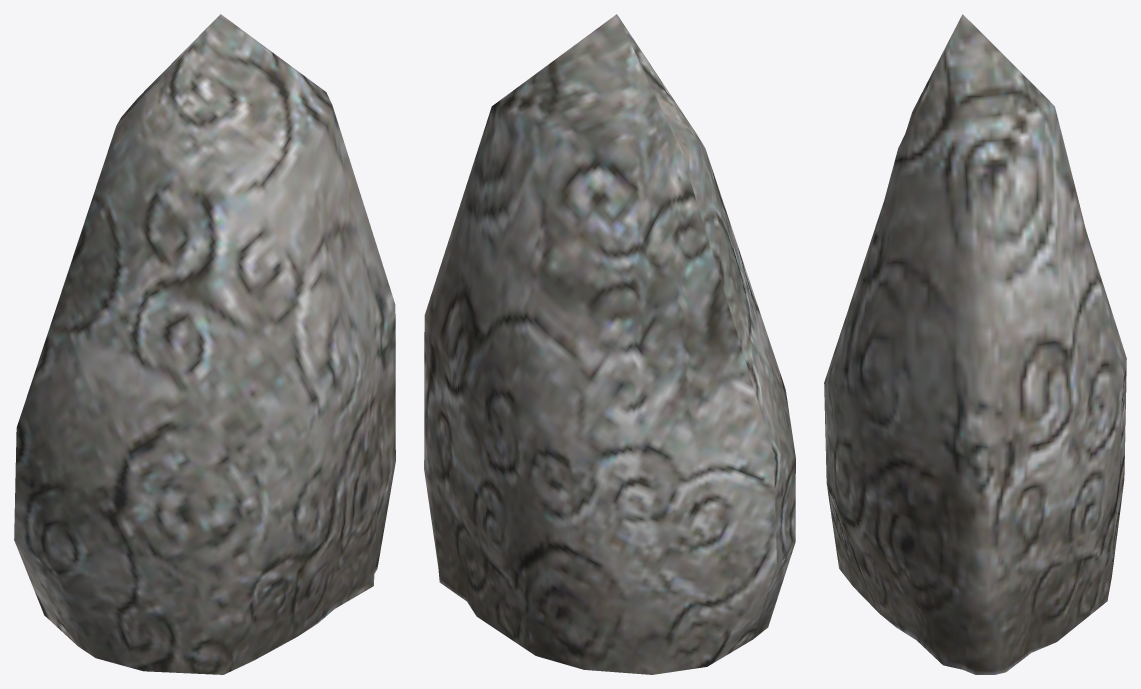
The model's file is standingstone_a.dae.
The picture shows the model from 3 angles, left to right: view 1: azimuth 30°, elevation 25°; view 2: azimuth 150°, elevation 25°; view 3: azimuth 270°, elevation 25°; orthographic projection. The views are drawn at different scales.
Visible parts, largest first — view 1: Object036; view 2: Object036; view 3: Object036.
Boxes of the visible parts, x1,y1,x2,y2 form: Object036: (14, 14, 395, 674); Object036: (424, 14, 795, 674); Object036: (824, 14, 1126, 674).
Size of the model in its own units: 2.43 by 3.8 by 1.79.
